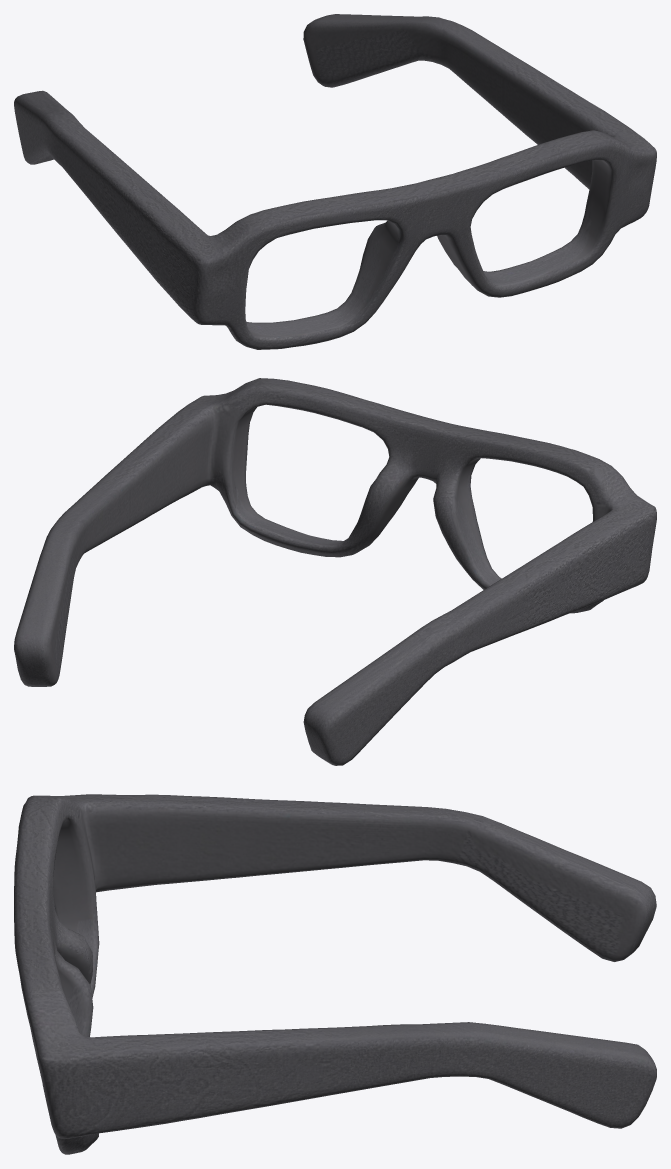
Rendered from specs-retopologized.glb.
The picture shows the model from 3 angles, top to bottom: view 1: azimuth 30°, elevation 25°; view 2: azimuth 150°, elevation 25°; view 3: azimuth 270°, elevation 25°; orthographic projection. The views are drawn at different scales.
Parts seen in each view (by area): view 1: tripo_node_8fc85d4a; view 2: tripo_node_8fc85d4a; view 3: tripo_node_8fc85d4a.
Boxes of the visible parts, <box> form: tripo_node_8fc85d4a: <box>14,14,656,349</box>; tripo_node_8fc85d4a: <box>14,378,656,765</box>; tripo_node_8fc85d4a: <box>14,794,656,1154</box>.
Bounding box in the file's own units: 0.9737 × 0.3055 × 0.9971.
Materials: 1 (1 with a texture image).
